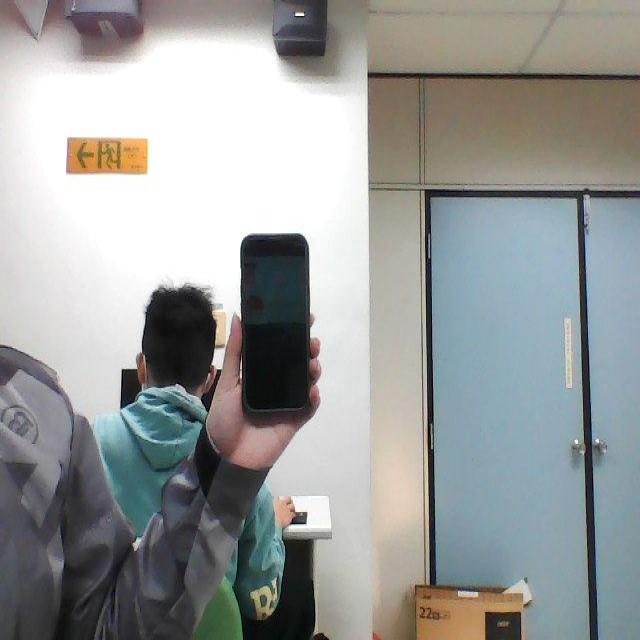Smartphone: (233, 225, 320, 430)
